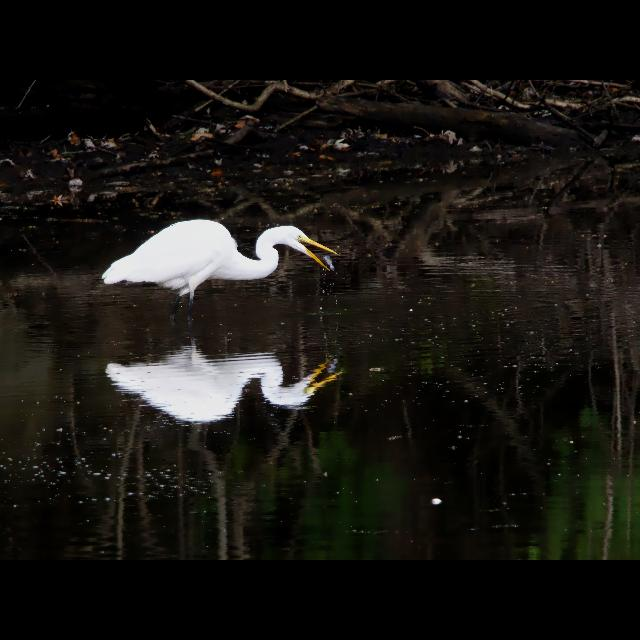egret: (101, 222, 347, 306)
